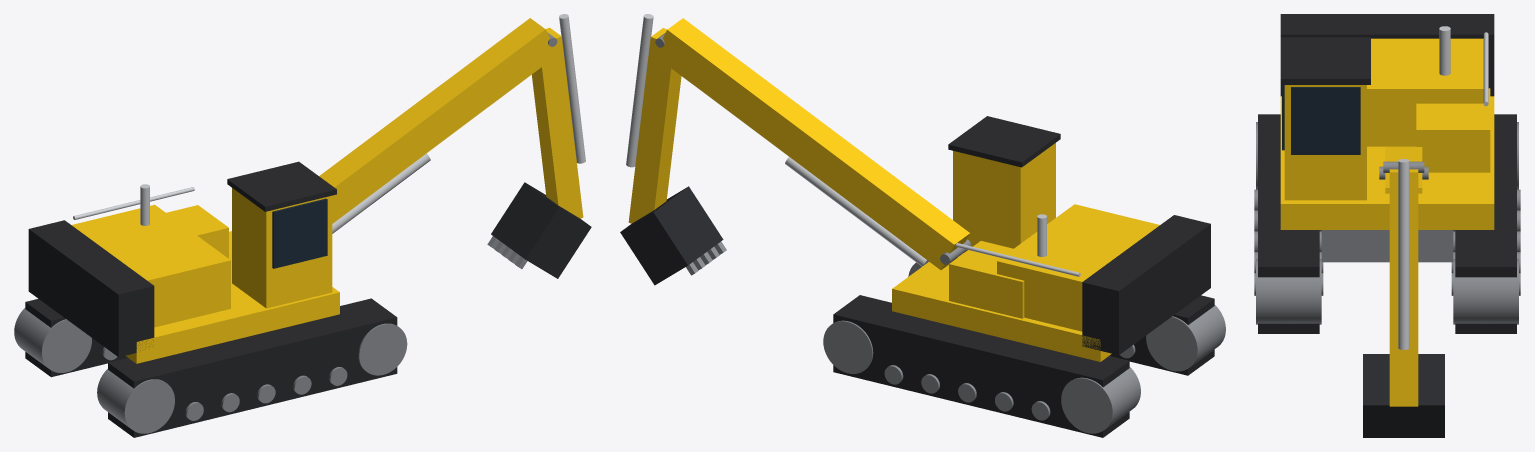
Rendered from CAT - CAD Model.fbx.
3 views of the same model, side by side, from view 1: azimuth 30°, elevation 25°; view 2: azimuth 150°, elevation 25°; view 3: azimuth 270°, elevation 25° (orthographic). The views are drawn at different scales.
Parts seen in each view (by area): view 1: Track_L, BoomBody, Counterweight, EngineHood, CabShell, Deck, StickBody, BucketShell, Sprocket_L, Roof, SideWindow, Sprocket_R (+6 smaller); view 2: BoomBody, Track_R, Counterweight, EngineHood, CabShell, Deck, StickBody, BucketShell, ToolBox, Sprocket_R, Roof, Sprocket_L (+5 smaller); view 3: Deck, EngineHood, Track_L, Track_R, Counterweight, BucketShell, StickBody, ToolBox, CabShell, Windshield, Roof, CarBody (+7 smaller).
Part boxes in pixels (x1=…): Track_L: x1=108, y1=298, x2=397, y2=437; BoomBody: x1=319, y1=18, x2=558, y2=223; Counterweight: x1=28, y1=220, x2=154, y2=357; EngineHood: x1=71, y1=204, x2=230, y2=327; CabShell: x1=232, y1=188, x2=332, y2=308; Deck: x1=125, y1=231, x2=339, y2=363; StickBody: x1=532, y1=27, x2=583, y2=218; BucketShell: x1=491, y1=182, x2=591, y2=278; Sprocket_L: x1=97, y1=369, x2=174, y2=433; Roof: x1=227, y1=161, x2=336, y2=211; SideWindow: x1=272, y1=198, x2=327, y2=268; Sprocket_R: x1=14, y1=308, x2=91, y2=372; BoomBody: x1=654, y1=18, x2=969, y2=269; Track_R: x1=833, y1=295, x2=1129, y2=437; Counterweight: x1=1082, y1=215, x2=1210, y2=355; EngineHood: x1=997, y1=204, x2=1159, y2=331; CabShell: x1=953, y1=143, x2=1055, y2=252; Deck: x1=892, y1=253, x2=1111, y2=361; StickBody: x1=628, y1=28, x2=681, y2=223; BucketShell: x1=620, y1=186, x2=723, y2=285; ToolBox: x1=949, y1=241, x2=1024, y2=318; Sprocket_R: x1=1061, y1=367, x2=1140, y2=433; Roof: x1=948, y1=116, x2=1060, y2=167; Sprocket_L: x1=1146, y1=305, x2=1225, y2=371; Deck: x1=1280, y1=96, x2=1494, y2=229; EngineHood: x1=1367, y1=38, x2=1483, y2=146; Track_L: x1=1258, y1=114, x2=1319, y2=333; Track_R: x1=1455, y1=114, x2=1516, y2=333; Counterweight: x1=1280, y1=14, x2=1494, y2=96; BucketShell: x1=1363, y1=354, x2=1444, y2=437; StickBody: x1=1389, y1=169, x2=1418, y2=406; ToolBox: x1=1416, y1=88, x2=1490, y2=172; CabShell: x1=1284, y1=85, x2=1366, y2=200; Windshield: x1=1291, y1=87, x2=1360, y2=154; Roof: x1=1280, y1=37, x2=1370, y2=84; CarBody: x1=1321, y1=230, x2=1453, y2=262.
Bounding box in the file's own units: 8734 × 4111 × 3240.
